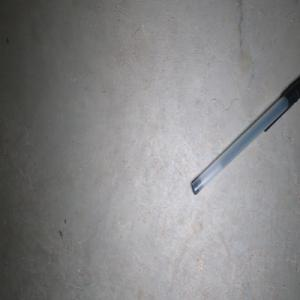Pen: (191, 78, 300, 194)
